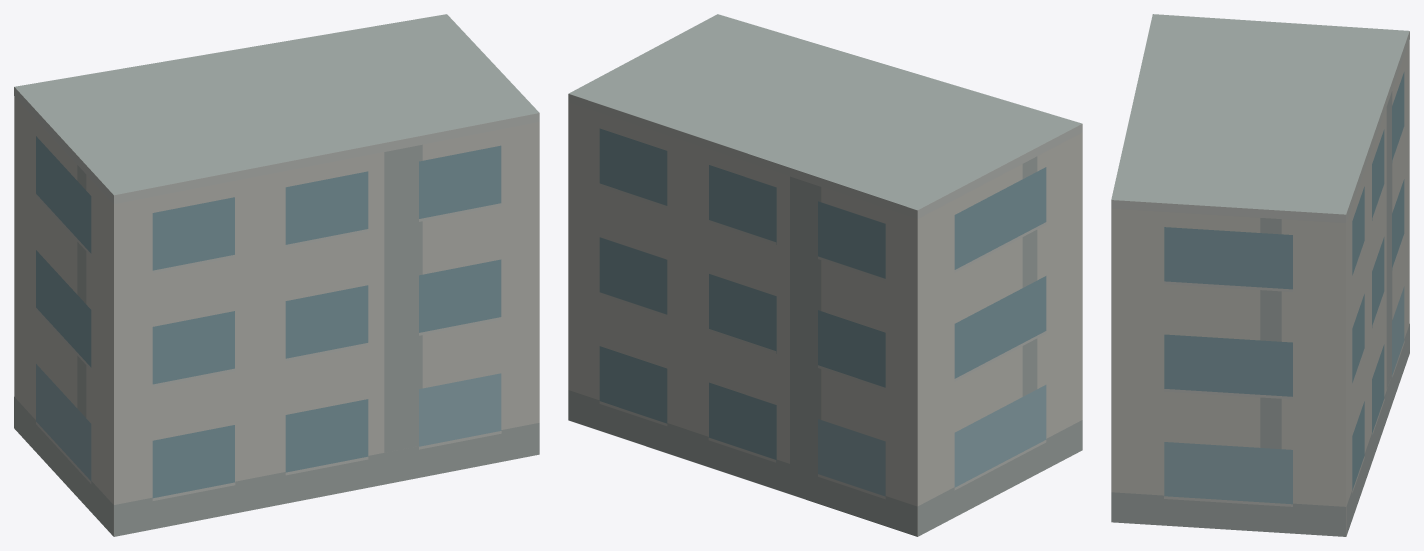
File: residential-6ca8dc30-70b3-485b-ad0f-c14230f8826f.glb
The picture shows the model from 3 angles, left to right: view 1: azimuth 30°, elevation 25°; view 2: azimuth 150°, elevation 25°; view 3: azimuth 270°, elevation 25°; orthographic projection. The views are drawn at different scales.
Visible parts, largest first — view 1: residential-6ca8dc30-70b3-485b-ad0f-c14230f8826f.tmp; view 2: residential-6ca8dc30-70b3-485b-ad0f-c14230f8826f.tmp; view 3: residential-6ca8dc30-70b3-485b-ad0f-c14230f8826f.tmp.
Part boxes in pixels (x1=…): residential-6ca8dc30-70b3-485b-ad0f-c14230f8826f.tmp: x1=14, y1=14, x2=539, y2=536; residential-6ca8dc30-70b3-485b-ad0f-c14230f8826f.tmp: x1=568, y1=14, x2=1082, y2=536; residential-6ca8dc30-70b3-485b-ad0f-c14230f8826f.tmp: x1=1111, y1=14, x2=1409, y2=536.
Size of the model in its own units: 12.22 by 9.15 by 7.69.
